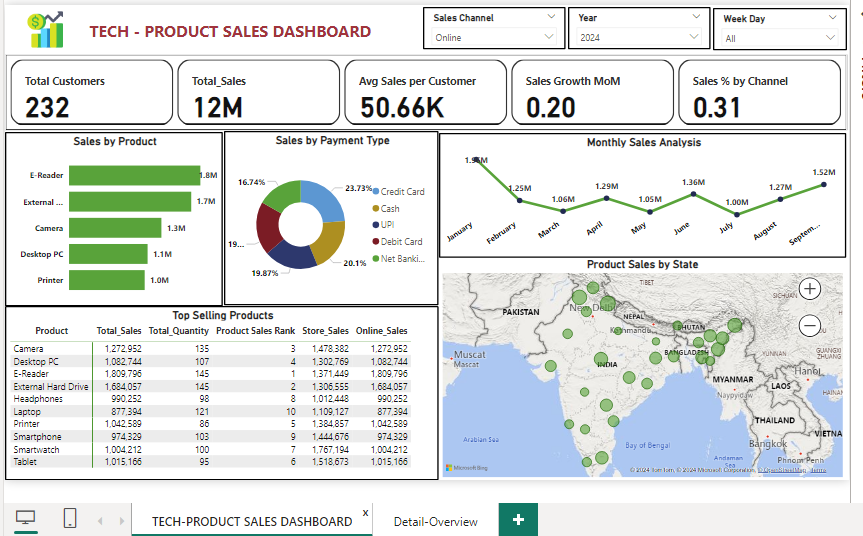

The dashboard page shown, as its layout file describes it:
{"tool":"powerbi","page":{"name":"TECH-PRODUCT SALES DASHBOARD","canvas":[1280,720],"ordinal":0},"visuals":[{"type":"cardVisual","fields":{"Data":["_Sales_Measures.Total_no._Customers","_Sales_Measures.Total_Sales","_Sales_Measures.Avg Sales per Customer","_Sales_Measures.Sales Growth MoM","_Sales_Measures.Sales % by Channel"]},"box":[0,74.1,1275.6,116.2],"z":0},{"type":"clusteredBarChart","title":"Sales by Product","fields":{"Category":["SalesData.Product"],"Y":["_Sales_Measures.Total_Sales"]},"box":[0,191.8,329.8,264.4],"z":1000},{"type":"donutChart","title":"Sales by Payment Type","fields":{"Y":["_Sales_Measures.Total_Sales"],"Category":["SalesData.Payment Type"]},"box":[331.3,190.3,325.4,264.4],"z":2000},{"type":"pivotTable","title":"Top Selling Products","fields":{"Values":["_Sales_Measures.Total_Sales","Sum(SalesData.Quantity)","_Sales_Measures.Product Sales Rank","_Sales_Measures.Store_Sales","_Sales_Measures.Online_Sales by Channel"],"Rows":["SalesData.Product"]},"box":[0,456.2,656.7,264.4],"z":3000},{"type":"lineChart","title":"Monthly Sales Analysis","fields":{"Y":["_Sales_Measures.Total_Sales"],"Category":["Dates.DateKey.Variation.Date Hierarchy.Month","Dates.DateKey.Variation.Date Hierarchy.Day"]},"box":[658.2,193.2,617.5,188.9],"z":4000},{"type":"map","title":"Product Sales by State","fields":{"Category":["SalesData.State"],"Size":["_Sales_Measures.Total_Sales"]},"box":[658.2,382.1,617.5,338.5],"z":5000},{"type":"slicer","fields":{"Values":["Dates.DayName"]},"box":[1072.2,4.4,203.4,63.9],"z":6000},{"type":"slicer","fields":{"Values":["Dates.Year"]},"box":[852.8,2.9,216.5,63.9],"z":7000},{"type":"slicer","fields":{"Values":["SalesData.Sales Channel"]},"box":[633.5,2.9,216.5,63.9],"z":8000},{"type":"textbox","box":[122,0,495.4,74.1],"z":9000},{"type":"image","box":[0,0,122,74.1],"z":10000}]}

Visuals, with their boxes in screenshot pixels (x1, y1, x2, y2):
cardVisual - _Sales_Measures.Total_no._Customers x _Sales_Measures.Total_Sales: [left=0, top=49, right=848, bottom=127]
"Sales by Product" clusteredBarChart: [left=0, top=128, right=219, bottom=303]
"Sales by Payment Type" donutChart: [left=220, top=127, right=437, bottom=302]
"Top Selling Products" pivotTable: [left=0, top=303, right=437, bottom=479]
"Monthly Sales Analysis" lineChart: [left=438, top=128, right=848, bottom=254]
"Product Sales by State" map: [left=438, top=254, right=848, bottom=479]
slicer - Dates.DayName: [left=713, top=3, right=848, bottom=45]
slicer - Dates.Year: [left=567, top=2, right=711, bottom=44]
slicer - SalesData.Sales Channel: [left=421, top=2, right=565, bottom=44]
textbox: [left=81, top=0, right=411, bottom=49]
image: [left=0, top=0, right=81, bottom=49]
